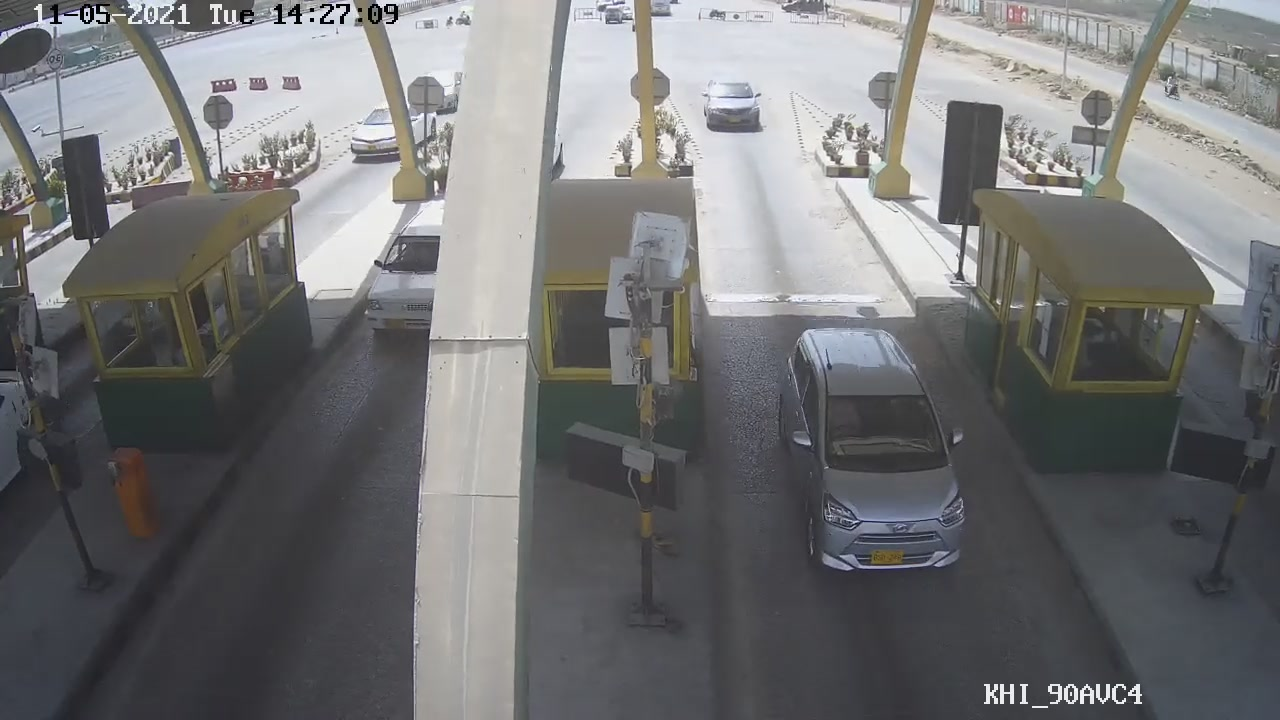F1: (772, 324, 983, 579)
